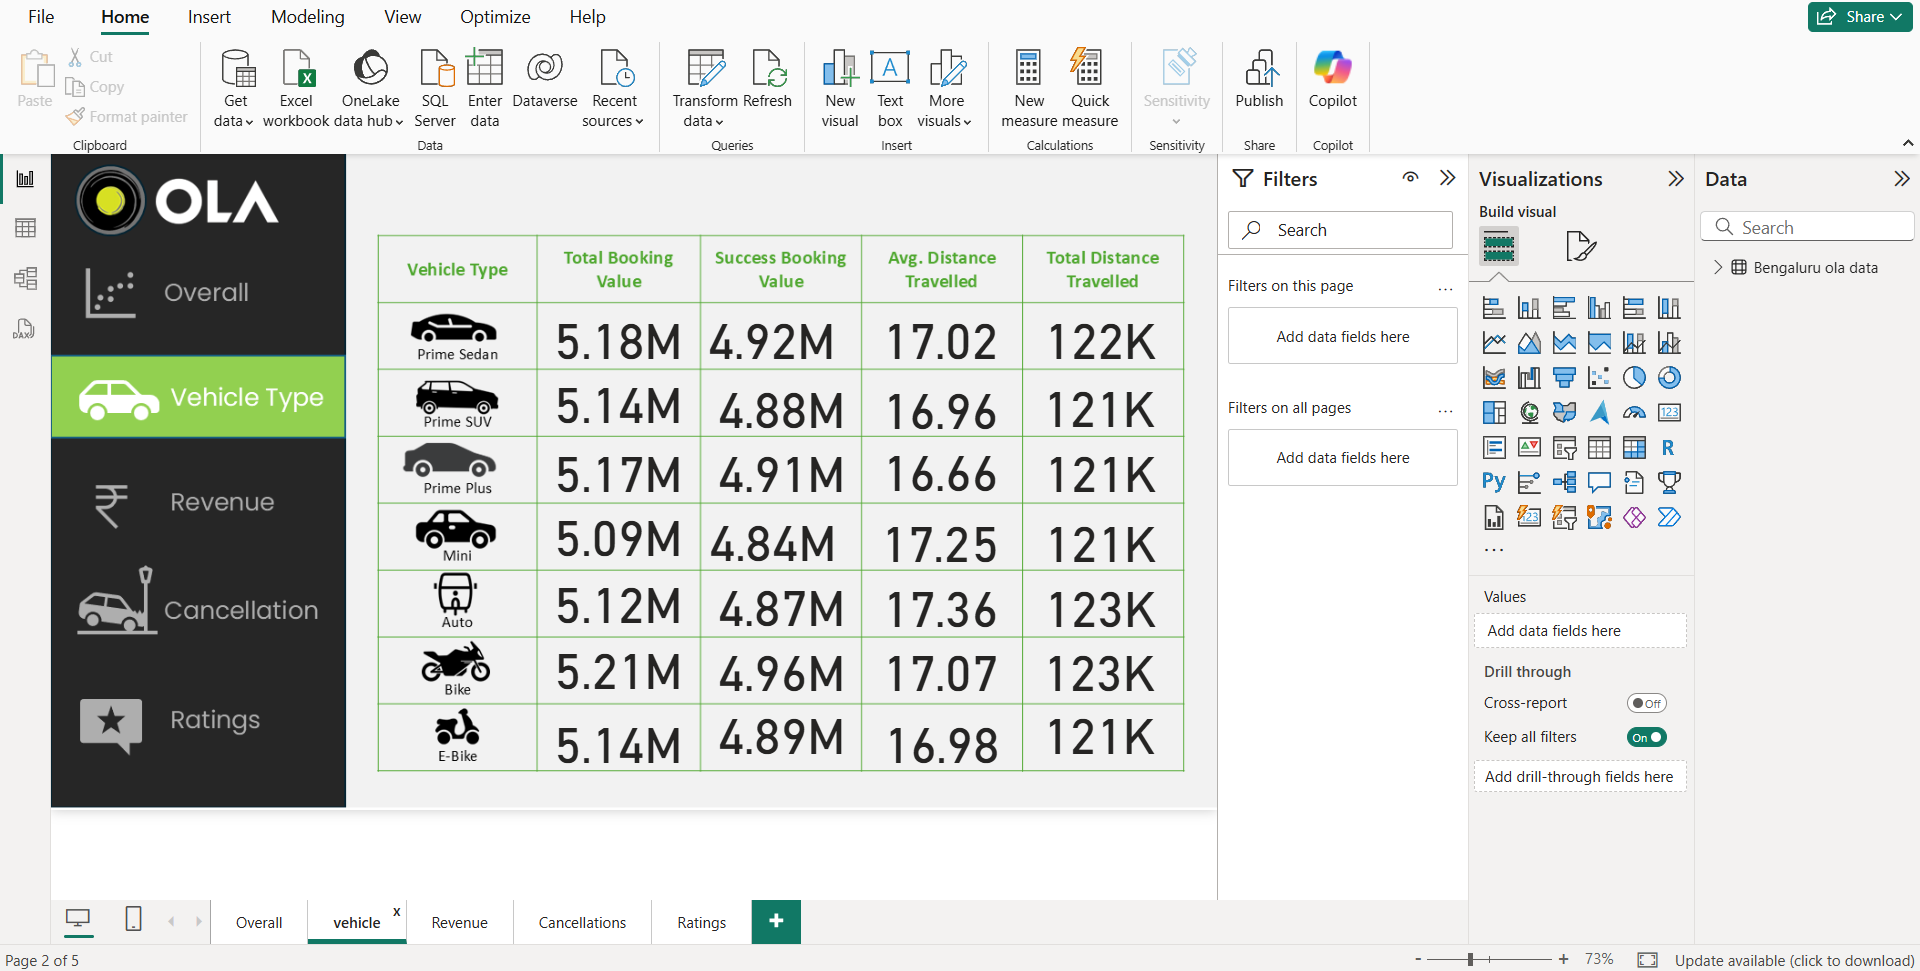

The dashboard page shown, as its layout file describes it:
{"tool":"powerbi","page":{"name":"vehicle","canvas":[1280,720],"ordinal":1},"visuals":[{"type":"actionButton","box":[0,583.2,323.8,81],"z":0},{"type":"actionButton","box":[0,447.3,323.8,81],"z":1000},{"type":"actionButton","box":[0,344.4,323.8,81],"z":2000},{"type":"actionButton","box":[0,109.8,323.8,81],"z":3000},{"type":"card","fields":{"Values":["Bengaluru ola data.TotalBookingValue"]},"box":[530,165.2,184.6,70],"z":4000},{"type":"card","fields":{"Values":["Bengaluru ola data.TotalBookingValue"]},"box":[530,235.2,184.6,70],"z":5000},{"type":"card","fields":{"Values":["Bengaluru ola data.TotalBookingValue"]},"box":[530,309.7,184.6,70],"z":6000},{"type":"card","fields":{"Values":["Bengaluru ola data.TotalBookingValue"]},"box":[530,379.6,184.6,70],"z":7000},{"type":"card","fields":{"Values":["Bengaluru ola data.TotalBookingValue"]},"box":[530,454.1,184.6,70],"z":8000},{"type":"card","fields":{"Values":["Bengaluru ola data.TotalBookingValue"]},"box":[530,527,184.6,70],"z":9000},{"type":"card","fields":{"Values":["Bengaluru ola data.TotalBookingValue"]},"box":[530,607.4,184.6,70],"z":10000},{"type":"card","fields":{"Values":["Bengaluru ola data.SuccessBookingValue"]},"box":[704.2,165.2,174.2,70],"z":11000},{"type":"card","fields":{"Values":["Bengaluru ola data.SuccessBookingValue"]},"box":[714.6,239.7,174.2,70],"z":12000},{"type":"card","fields":{"Values":["Bengaluru ola data.SuccessBookingValue"]},"box":[714.6,309.7,174.2,70],"z":13000},{"type":"card","fields":{"Values":["Bengaluru ola data.SuccessBookingValue"]},"box":[705.7,385.6,174.2,70],"z":14000},{"type":"card","fields":{"Values":["Bengaluru ola data.SuccessBookingValue"]},"box":[714.6,457,174.2,70],"z":15000},{"type":"card","fields":{"Values":["Bengaluru ola data.SuccessBookingValue"]},"box":[714.6,528.5,174.2,70],"z":16000},{"type":"card","fields":{"Values":["Bengaluru ola data.SuccessBookingValue"]},"box":[714.6,598.5,174.2,70],"z":17000},{"type":"card","fields":{"Values":["Avg(Bengaluru ola data.Ride Distance)"]},"box":[888.8,165.2,174.2,70],"z":18000},{"type":"card","fields":{"Values":["Avg(Bengaluru ola data.Ride Distance)"]},"box":[888.8,241.2,174.2,70],"z":19000},{"type":"card","fields":{"Values":["Avg(Bengaluru ola data.Ride Distance)"]},"box":[888.8,308.2,174.2,70],"z":20000},{"type":"card","fields":{"Values":["Avg(Bengaluru ola data.Ride Distance)"]},"box":[888.8,387.1,174.2,70],"z":21000},{"type":"card","fields":{"Values":["Avg(Bengaluru ola data.Ride Distance)"]},"box":[888.8,458.5,174.2,70],"z":22000},{"type":"card","fields":{"Values":["Avg(Bengaluru ola data.Ride Distance)"]},"box":[888.8,528.5,174.2,70],"z":23000},{"type":"card","fields":{"Values":["Avg(Bengaluru ola data.Ride Distance)"]},"box":[890.3,607.4,174.2,70],"z":24000},{"type":"card","fields":{"Values":["Sum(Bengaluru ola data.Ride Distance)"]},"box":[1064.4,165.2,174.2,70],"z":25000},{"type":"card","fields":{"Values":["Sum(Bengaluru ola data.Ride Distance)"]},"box":[1062.9,238.2,174.2,70],"z":26000},{"type":"card","fields":{"Values":["Sum(Bengaluru ola data.Ride Distance)"]},"box":[1064.4,309.7,174.2,70],"z":27000},{"type":"card","fields":{"Values":["Sum(Bengaluru ola data.Ride Distance)"]},"box":[1064.4,387.1,174.2,70],"z":28000},{"type":"card","fields":{"Values":["Sum(Bengaluru ola data.Ride Distance)"]},"box":[1064.4,458.5,174.2,70],"z":29000},{"type":"card","fields":{"Values":["Sum(Bengaluru ola data.Ride Distance)"]},"box":[1062.9,528.5,174.2,70],"z":30000},{"type":"card","fields":{"Values":["Sum(Bengaluru ola data.Ride Distance)"]},"box":[1062.9,598.5,174.2,70],"z":31000}]}

Visuals, with their boxes on the page's 1280x720 design canvas (x1, y1, x2, y2). These are canvas units, not pixel positions in the 1920x971 screenshot, which may show the page scaled, cropped or inside an application window:
actionButton: {"x1": 0, "y1": 583, "x2": 324, "y2": 664}
actionButton: {"x1": 0, "y1": 447, "x2": 324, "y2": 528}
actionButton: {"x1": 0, "y1": 344, "x2": 324, "y2": 425}
actionButton: {"x1": 0, "y1": 110, "x2": 324, "y2": 191}
card - Bengaluru ola data.TotalBookingValue: {"x1": 530, "y1": 165, "x2": 715, "y2": 235}
card - Bengaluru ola data.TotalBookingValue: {"x1": 530, "y1": 235, "x2": 715, "y2": 305}
card - Bengaluru ola data.TotalBookingValue: {"x1": 530, "y1": 310, "x2": 715, "y2": 380}
card - Bengaluru ola data.TotalBookingValue: {"x1": 530, "y1": 380, "x2": 715, "y2": 450}
card - Bengaluru ola data.TotalBookingValue: {"x1": 530, "y1": 454, "x2": 715, "y2": 524}
card - Bengaluru ola data.TotalBookingValue: {"x1": 530, "y1": 527, "x2": 715, "y2": 597}
card - Bengaluru ola data.TotalBookingValue: {"x1": 530, "y1": 607, "x2": 715, "y2": 677}
card - Bengaluru ola data.SuccessBookingValue: {"x1": 704, "y1": 165, "x2": 878, "y2": 235}
card - Bengaluru ola data.SuccessBookingValue: {"x1": 715, "y1": 240, "x2": 889, "y2": 310}
card - Bengaluru ola data.SuccessBookingValue: {"x1": 715, "y1": 310, "x2": 889, "y2": 380}
card - Bengaluru ola data.SuccessBookingValue: {"x1": 706, "y1": 386, "x2": 880, "y2": 456}
card - Bengaluru ola data.SuccessBookingValue: {"x1": 715, "y1": 457, "x2": 889, "y2": 527}
card - Bengaluru ola data.SuccessBookingValue: {"x1": 715, "y1": 528, "x2": 889, "y2": 598}
card - Bengaluru ola data.SuccessBookingValue: {"x1": 715, "y1": 598, "x2": 889, "y2": 668}
card - Avg(Bengaluru ola data.Ride Distance): {"x1": 889, "y1": 165, "x2": 1063, "y2": 235}
card - Avg(Bengaluru ola data.Ride Distance): {"x1": 889, "y1": 241, "x2": 1063, "y2": 311}
card - Avg(Bengaluru ola data.Ride Distance): {"x1": 889, "y1": 308, "x2": 1063, "y2": 378}
card - Avg(Bengaluru ola data.Ride Distance): {"x1": 889, "y1": 387, "x2": 1063, "y2": 457}
card - Avg(Bengaluru ola data.Ride Distance): {"x1": 889, "y1": 458, "x2": 1063, "y2": 528}
card - Avg(Bengaluru ola data.Ride Distance): {"x1": 889, "y1": 528, "x2": 1063, "y2": 598}
card - Avg(Bengaluru ola data.Ride Distance): {"x1": 890, "y1": 607, "x2": 1064, "y2": 677}
card - Sum(Bengaluru ola data.Ride Distance): {"x1": 1064, "y1": 165, "x2": 1239, "y2": 235}
card - Sum(Bengaluru ola data.Ride Distance): {"x1": 1063, "y1": 238, "x2": 1237, "y2": 308}
card - Sum(Bengaluru ola data.Ride Distance): {"x1": 1064, "y1": 310, "x2": 1239, "y2": 380}
card - Sum(Bengaluru ola data.Ride Distance): {"x1": 1064, "y1": 387, "x2": 1239, "y2": 457}
card - Sum(Bengaluru ola data.Ride Distance): {"x1": 1064, "y1": 458, "x2": 1239, "y2": 528}
card - Sum(Bengaluru ola data.Ride Distance): {"x1": 1063, "y1": 528, "x2": 1237, "y2": 598}
card - Sum(Bengaluru ola data.Ride Distance): {"x1": 1063, "y1": 598, "x2": 1237, "y2": 668}
